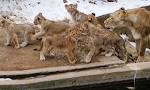lion: (102, 6, 150, 57)
